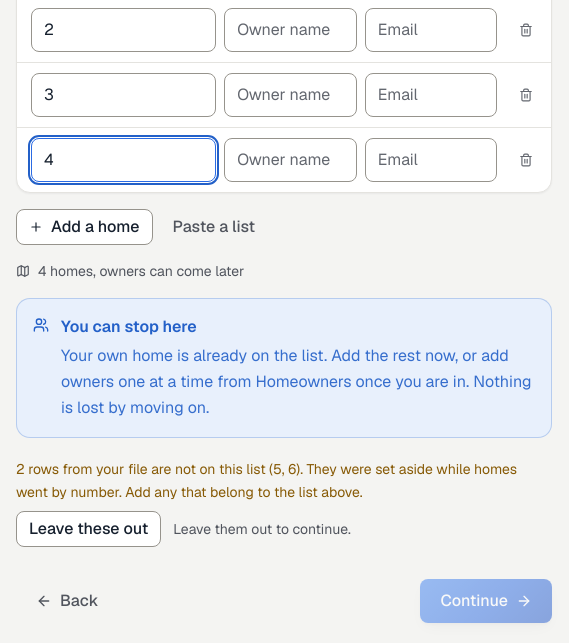
Test: the homes question, by address, with rows still parked › shows them, holds Continue, and lets the board leave them out
This screenshot has width=569, height=643.
(page scrolled)
Expected: the text "2 rows from your file are not on this list (5, 6)" is shown, [16,458,552,503]
Expected: the button "Continue" is disabled, [420,579,552,623]
Click the button "Leave these out": (89, 529) [16,511,161,547]
(page scrolled)
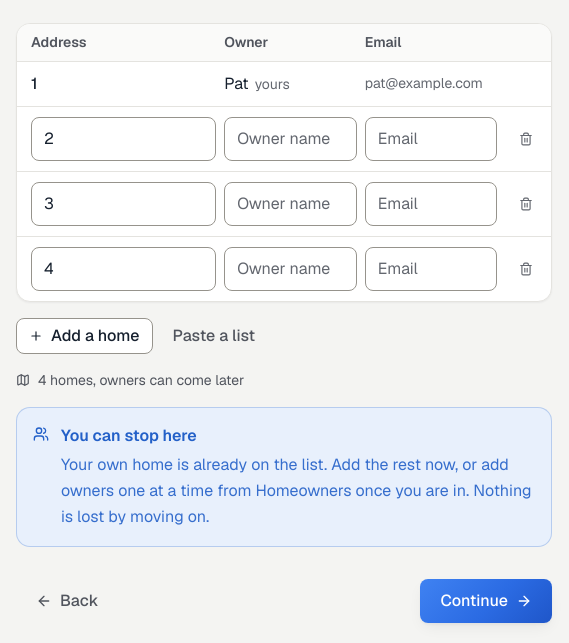
Expected: the text "rows from your file are not on this list" is gone
Expected: the button "Continue" is enabled, [420,579,552,623]
